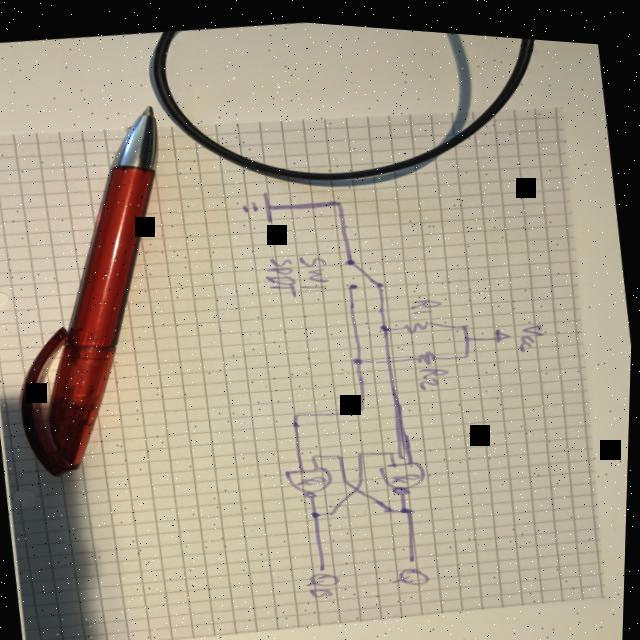crossover: (386, 349, 399, 358), (354, 478, 367, 487)
ground: (239, 183, 278, 223)
junction: (330, 190, 348, 204), (380, 316, 396, 327), (402, 498, 418, 509), (313, 502, 327, 513), (355, 349, 368, 360), (388, 440, 401, 451), (357, 398, 370, 408), (331, 501, 344, 511), (386, 499, 399, 507), (465, 326, 476, 334), (294, 405, 305, 413), (359, 443, 369, 451), (464, 344, 474, 352), (462, 314, 473, 321), (339, 446, 350, 453), (312, 447, 323, 454), (359, 471, 371, 477), (344, 472, 355, 478)
resistor: (404, 309, 442, 329), (418, 340, 440, 361)
source: (494, 317, 515, 337)
switch: (342, 247, 390, 287)
terminal: (409, 546, 422, 556), (321, 556, 335, 565)
text: (264, 248, 303, 296), (296, 244, 336, 287), (308, 563, 346, 595), (517, 312, 551, 345), (419, 355, 454, 385), (397, 556, 437, 581), (409, 287, 448, 310)
